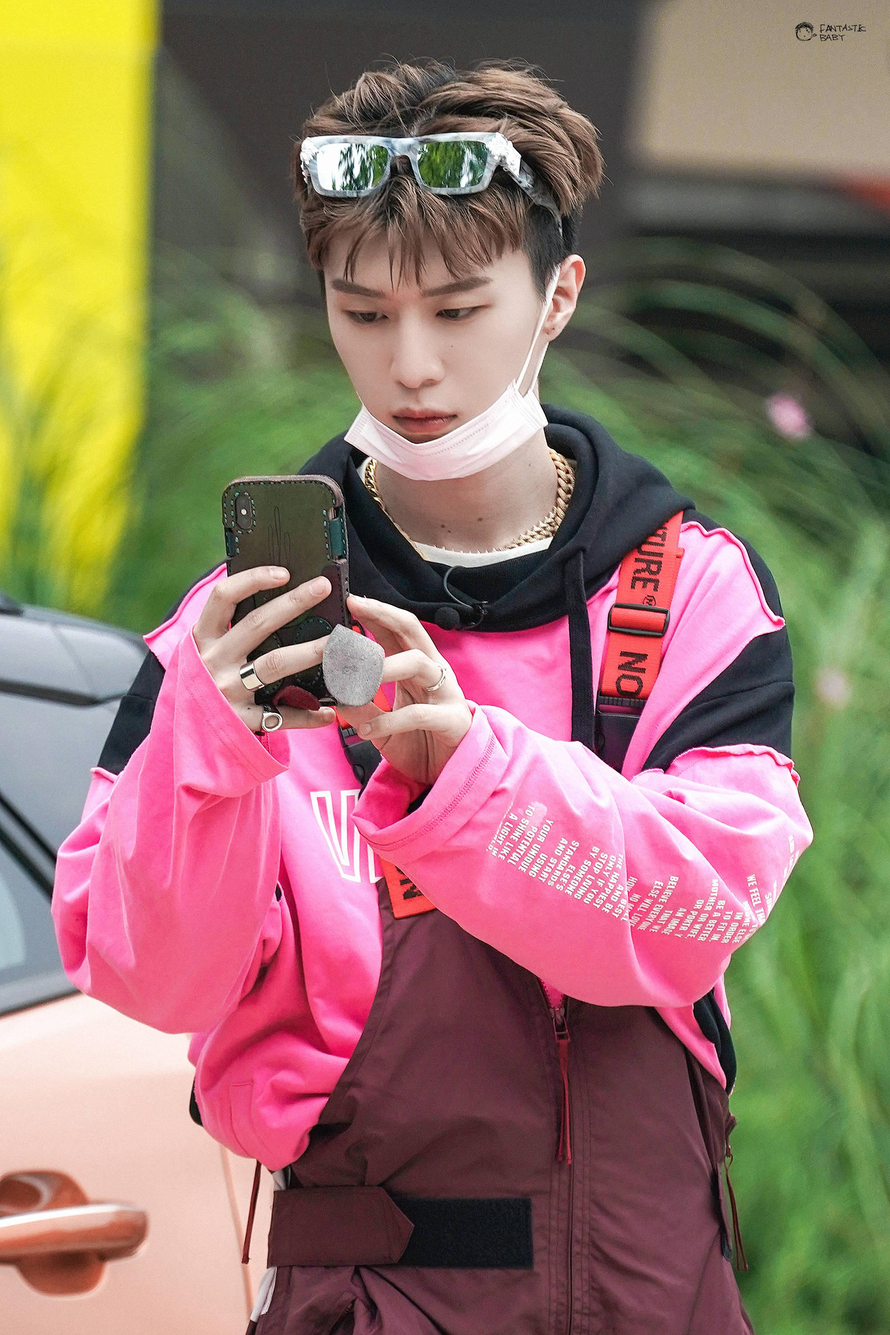WRONG: (324, 240, 527, 475)
